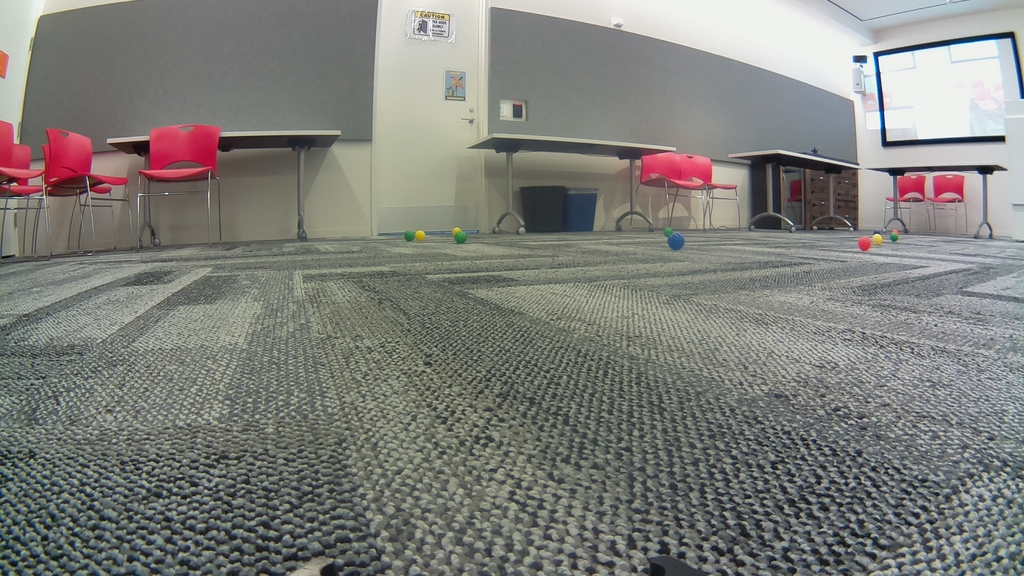ball: (451, 226, 461, 235)
